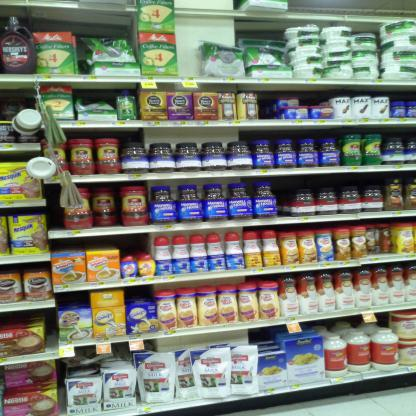Void: (120, 232, 148, 252), (58, 296, 87, 310), (124, 289, 151, 300), (8, 315, 49, 320)
